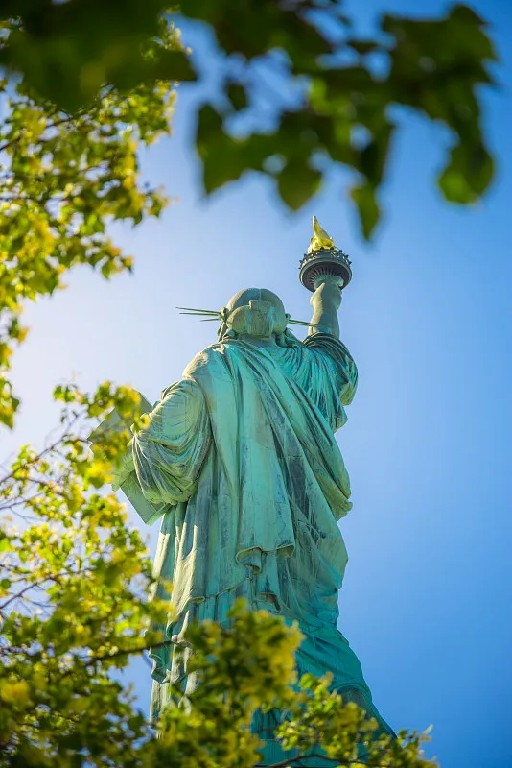SL: (112, 215, 405, 768)
